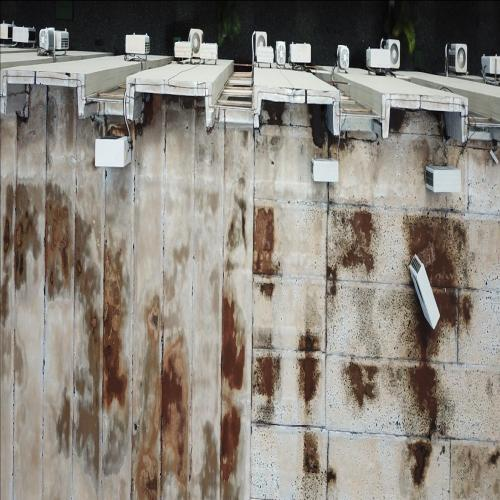conde: (408, 252, 444, 333), (422, 158, 465, 204), (94, 129, 134, 173), (308, 152, 343, 194)
